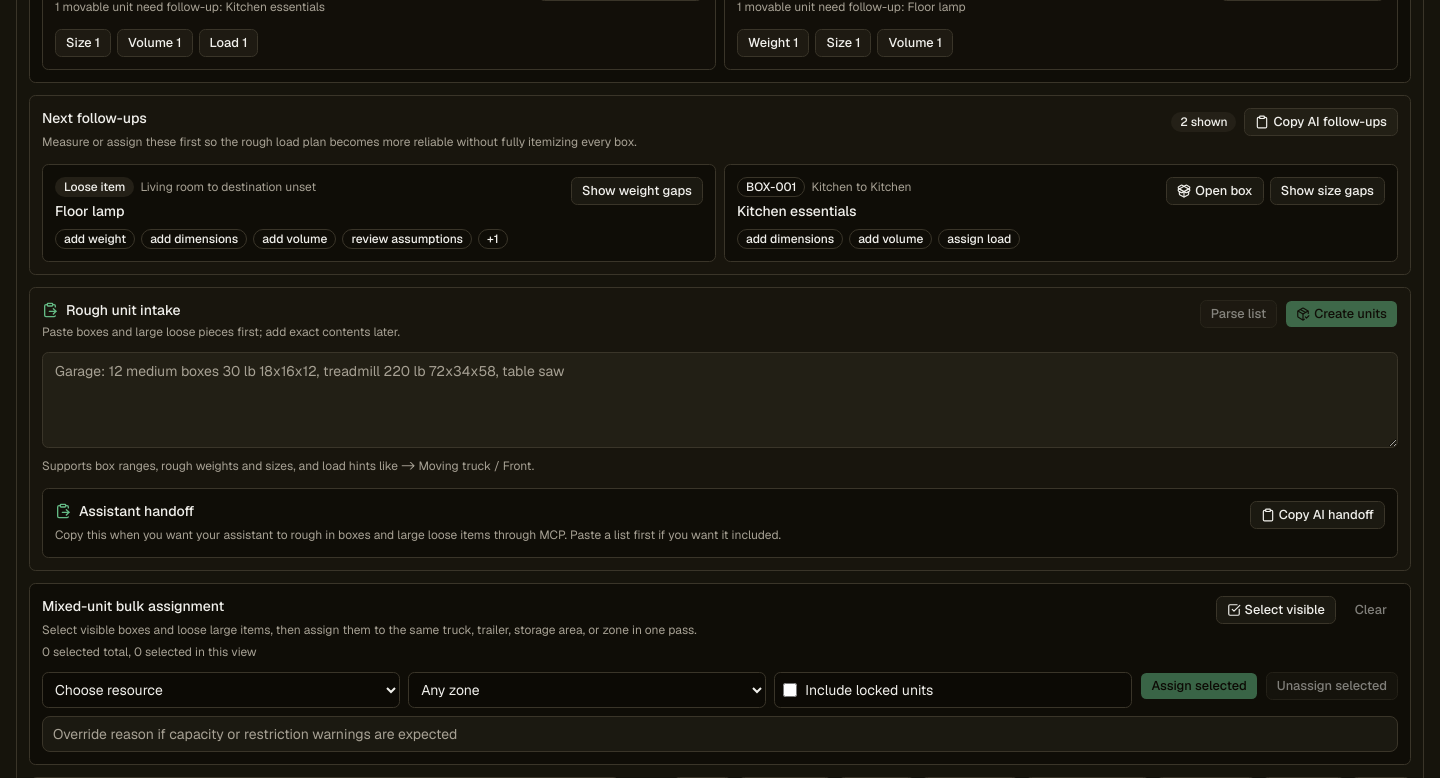
Scenario: LoadPlannerBoard task tabs › updates the rough-unit handoff when a user pastes a list
The width and height of the screenshot is (1440, 778).
(page scrolled)
Expected: the text "Paste a list first" is shown, x1=570 y1=527 x2=781 y2=543
Expected: the button with aria-label "Copy rough movable unit handoff" reads "Copy AI handoff", x1=1250 y1=501 x2=1385 y2=529
Type "Garage: B-020 shop tools 42 lb -> Moving truck / Front" into the text box named "Rough movable unit list".
click(720, 400); type("Garage: B-020 shop tools 42 lb -> Moving truck / Front")  # box x1=42 y1=352 x2=1398 y2=448
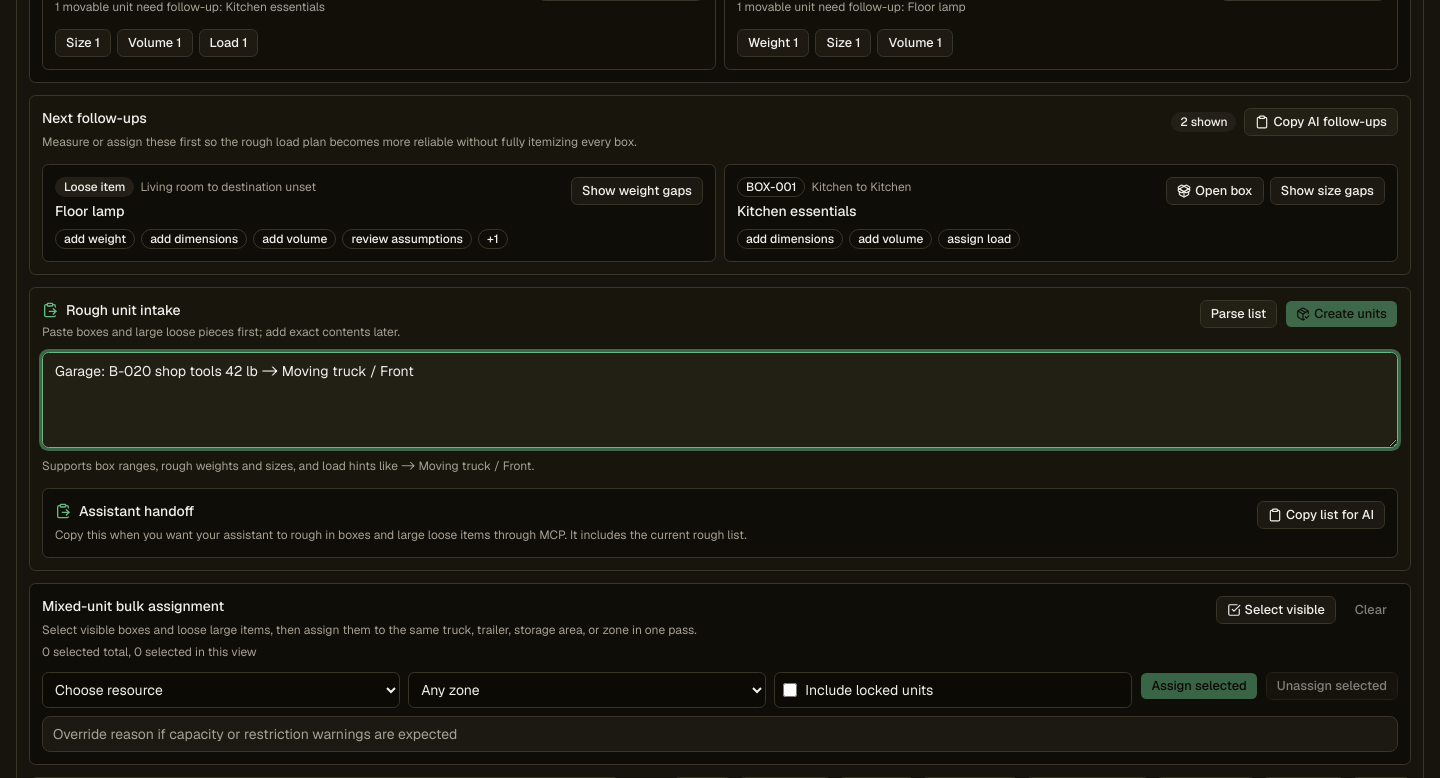
Expected: the text "It includes the current rough list" is shown, x1=570 y1=527 x2=747 y2=543
Expected: the button with aria-label "Copy rough movable unit handoff" reads "Copy list for AI", x1=1257 y1=501 x2=1385 y2=529
